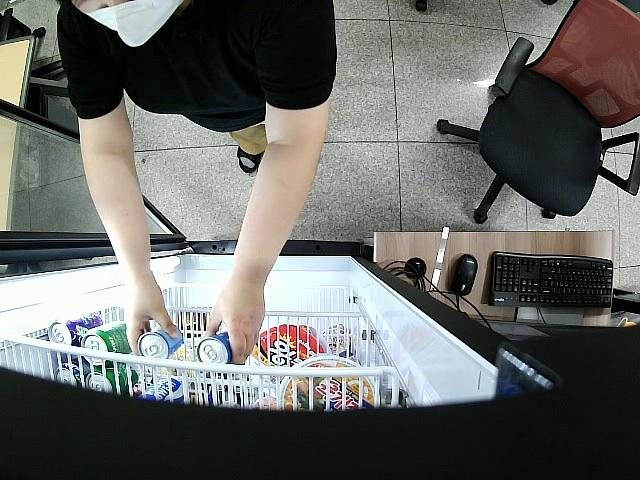00_hand: (205, 274, 267, 365), (120, 270, 179, 354)
15_letsbe: (133, 328, 181, 356), (197, 334, 233, 365)
